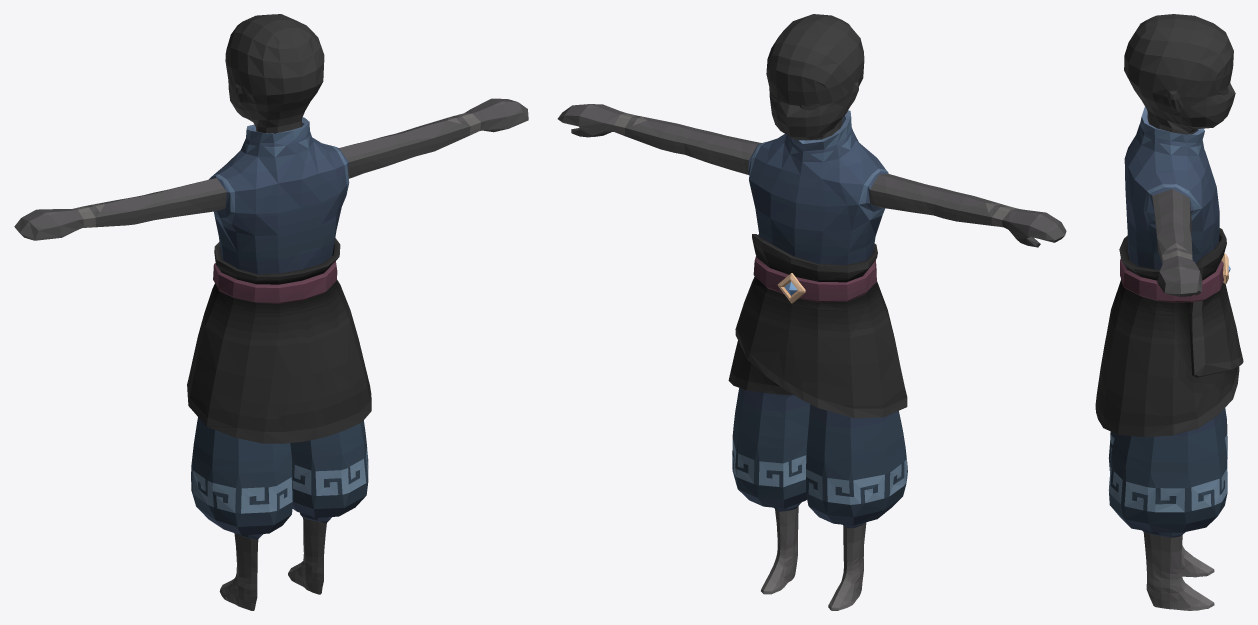
File: CharSkyKid_Body_AP23PianistBasic.glb
The picture shows the model from 3 angles, left to right: view 1: azimuth 30°, elevation 25°; view 2: azimuth 150°, elevation 25°; view 3: azimuth 270°, elevation 25°; orthographic projection.
Parts seen in each view (by area): view 1: CharSkyKid_Body_AP23PianistBasic; view 2: CharSkyKid_Body_AP23PianistBasic; view 3: CharSkyKid_Body_AP23PianistBasic.
Boxes of the visible parts, left/top/right/bottom form: CharSkyKid_Body_AP23PianistBasic: left=14, top=14, right=528, bottom=610; CharSkyKid_Body_AP23PianistBasic: left=557, top=14, right=1066, bottom=610; CharSkyKid_Body_AP23PianistBasic: left=1095, top=14, right=1243, bottom=610.
Size of the model in its own units: 13.83 by 14.94 by 3.51.
Materials: 1 (1 with a texture image).
